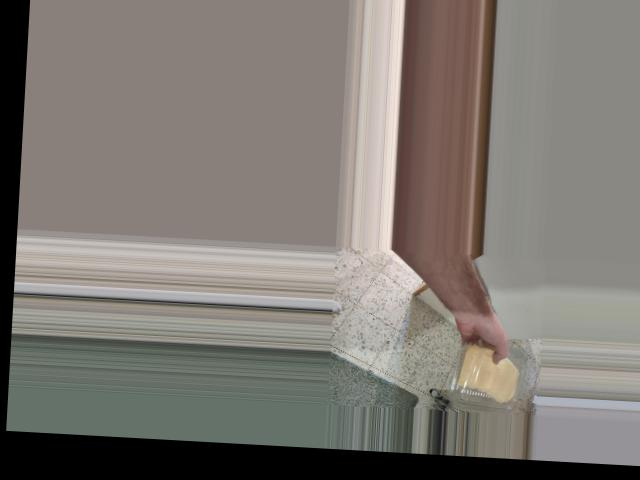cheese: (450, 340, 523, 408)
